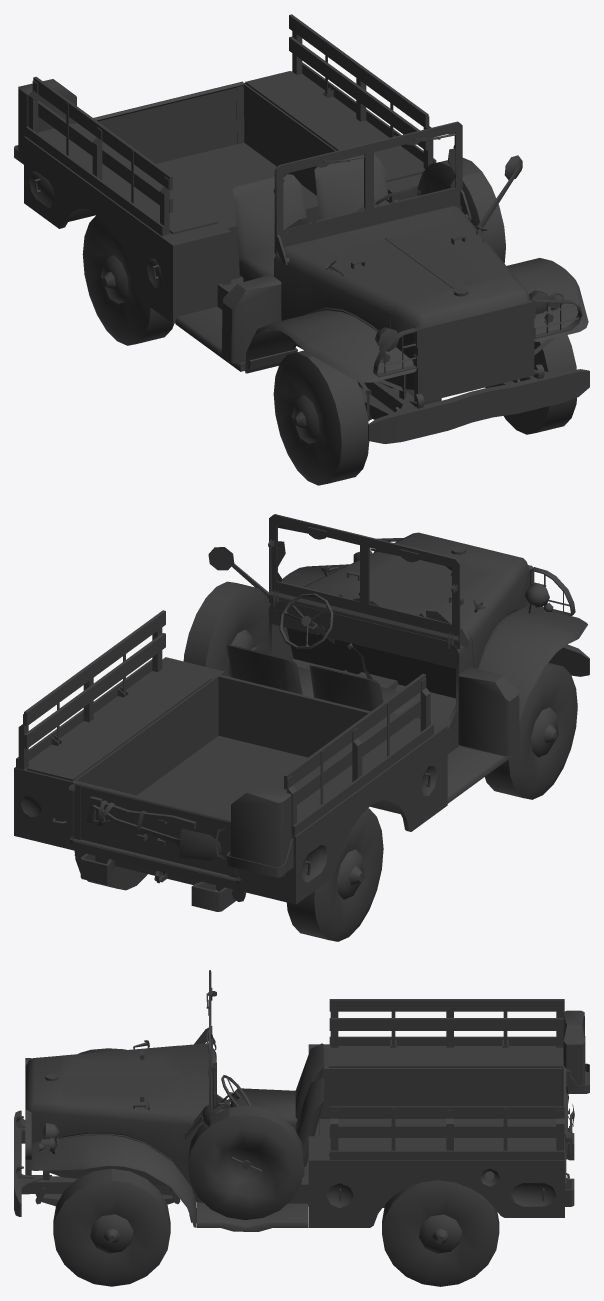
Rendered from jeep.glb.
The picture shows the model from 3 angles, top to bottom: view 1: azimuth 30°, elevation 25°; view 2: azimuth 150°, elevation 25°; view 3: azimuth 270°, elevation 25°; orthographic projection. The views are drawn at different scales.
Parts seen in each view (by area): view 1: GEO_suspension_rear_Untitled.039; view 2: GEO_suspension_rear_Untitled.039; view 3: GEO_suspension_rear_Untitled.039.
Boxes of the visible parts, x1,y1,x2,y2 form: GEO_suspension_rear_Untitled.039: (14,14,589,485); GEO_suspension_rear_Untitled.039: (14,514,589,941); GEO_suspension_rear_Untitled.039: (14,970,589,1286).
Bounding box in the file's own units: 0.5408 × 0.4618 × 1.05.
1 material, 1 textured.
